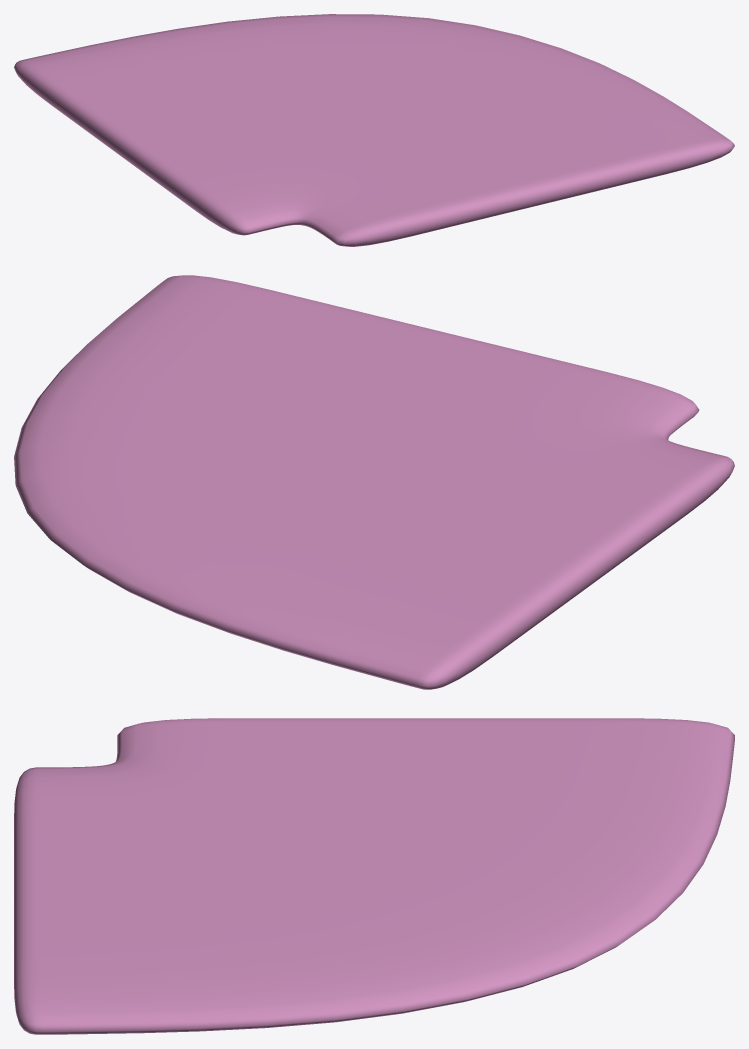
The model's file is CapePieceTurn.fbx.
3 renders of one model, top to bottom at view 1: azimuth 30°, elevation 25°; view 2: azimuth 150°, elevation 25°; view 3: azimuth 270°, elevation 25°, orthographic. The views are drawn at different scales.
Visible parts, largest first — view 1: CapePieceTurn; view 2: CapePieceTurn; view 3: CapePieceTurn.
Part boxes in pixels (bbox=[...]): CapePieceTurn: bbox=[14, 14, 734, 246]; CapePieceTurn: bbox=[14, 275, 734, 689]; CapePieceTurn: bbox=[14, 718, 734, 1034].
Size of the model in its own units: 0.9075 by 0.0387 by 0.9074.
